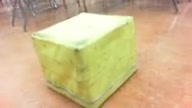cube: (32, 12, 138, 108)
